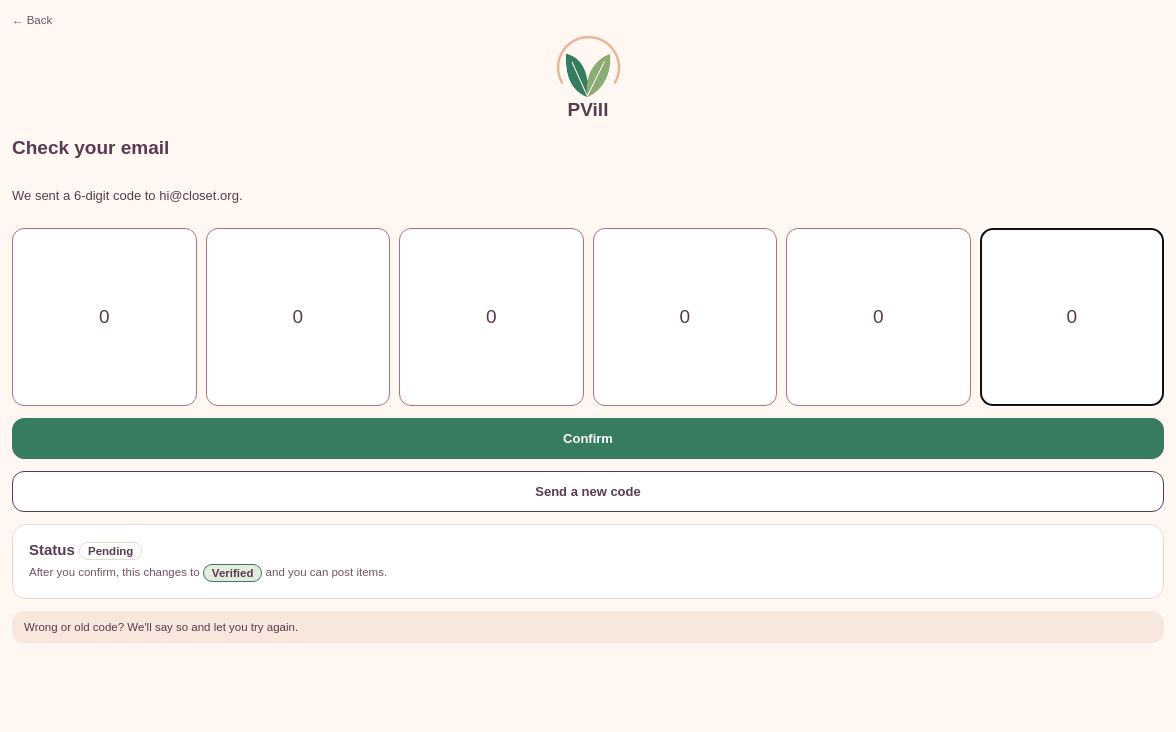
Test: OrgVerifyPage › says so when the code is wrong and lets them try again
Click the button "Confirm" at (588, 438), box [12,418,1164,459]
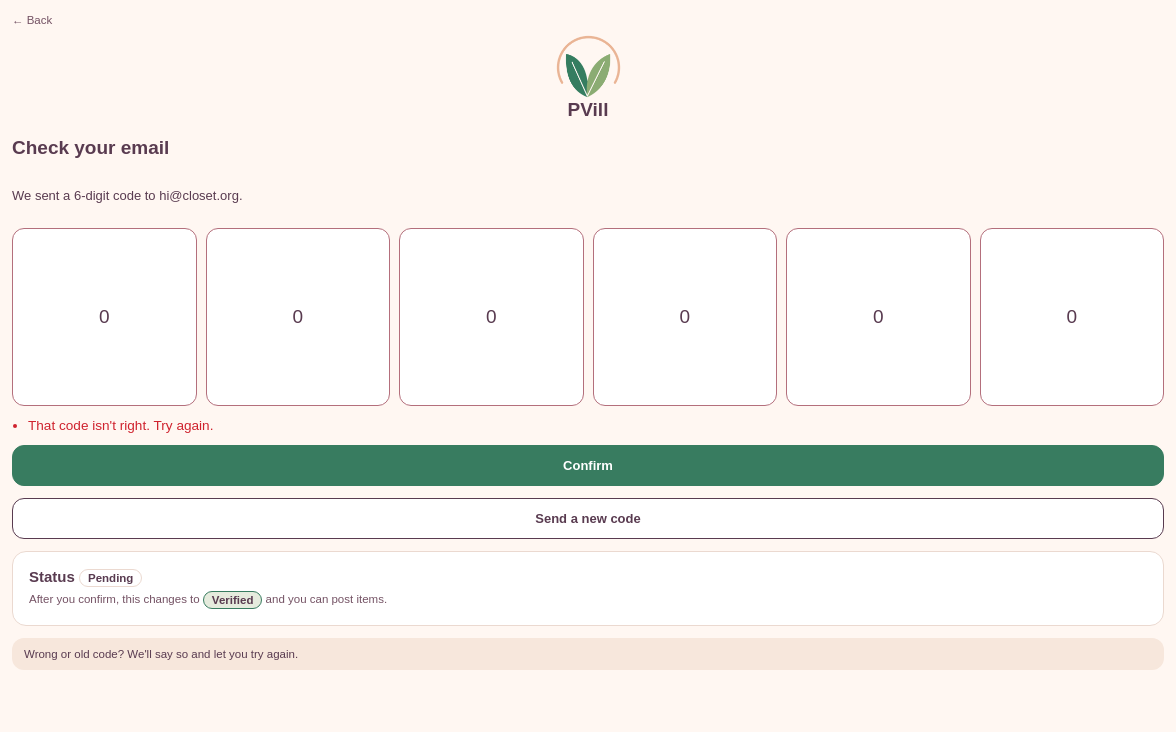
Expected: the text "Pending" is shown, [79,569,142,587]
Result: the list item "That code isn't right. Try again." is shown at [28,418,214,433]
